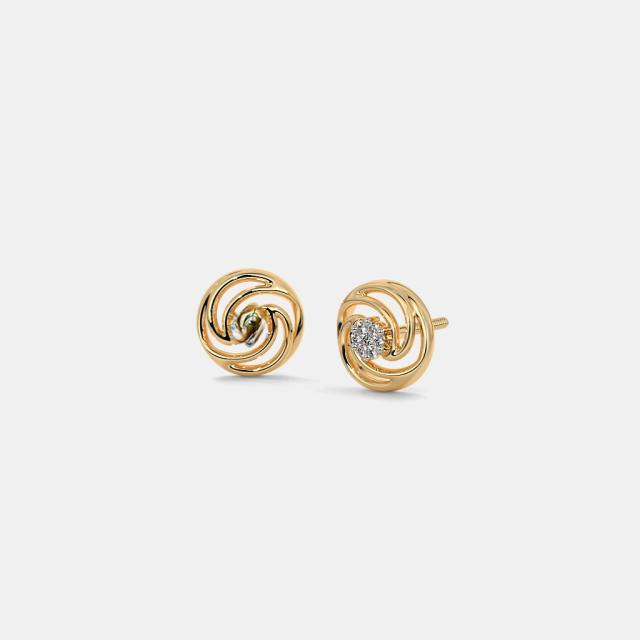missing gem: (230, 309, 265, 349)
